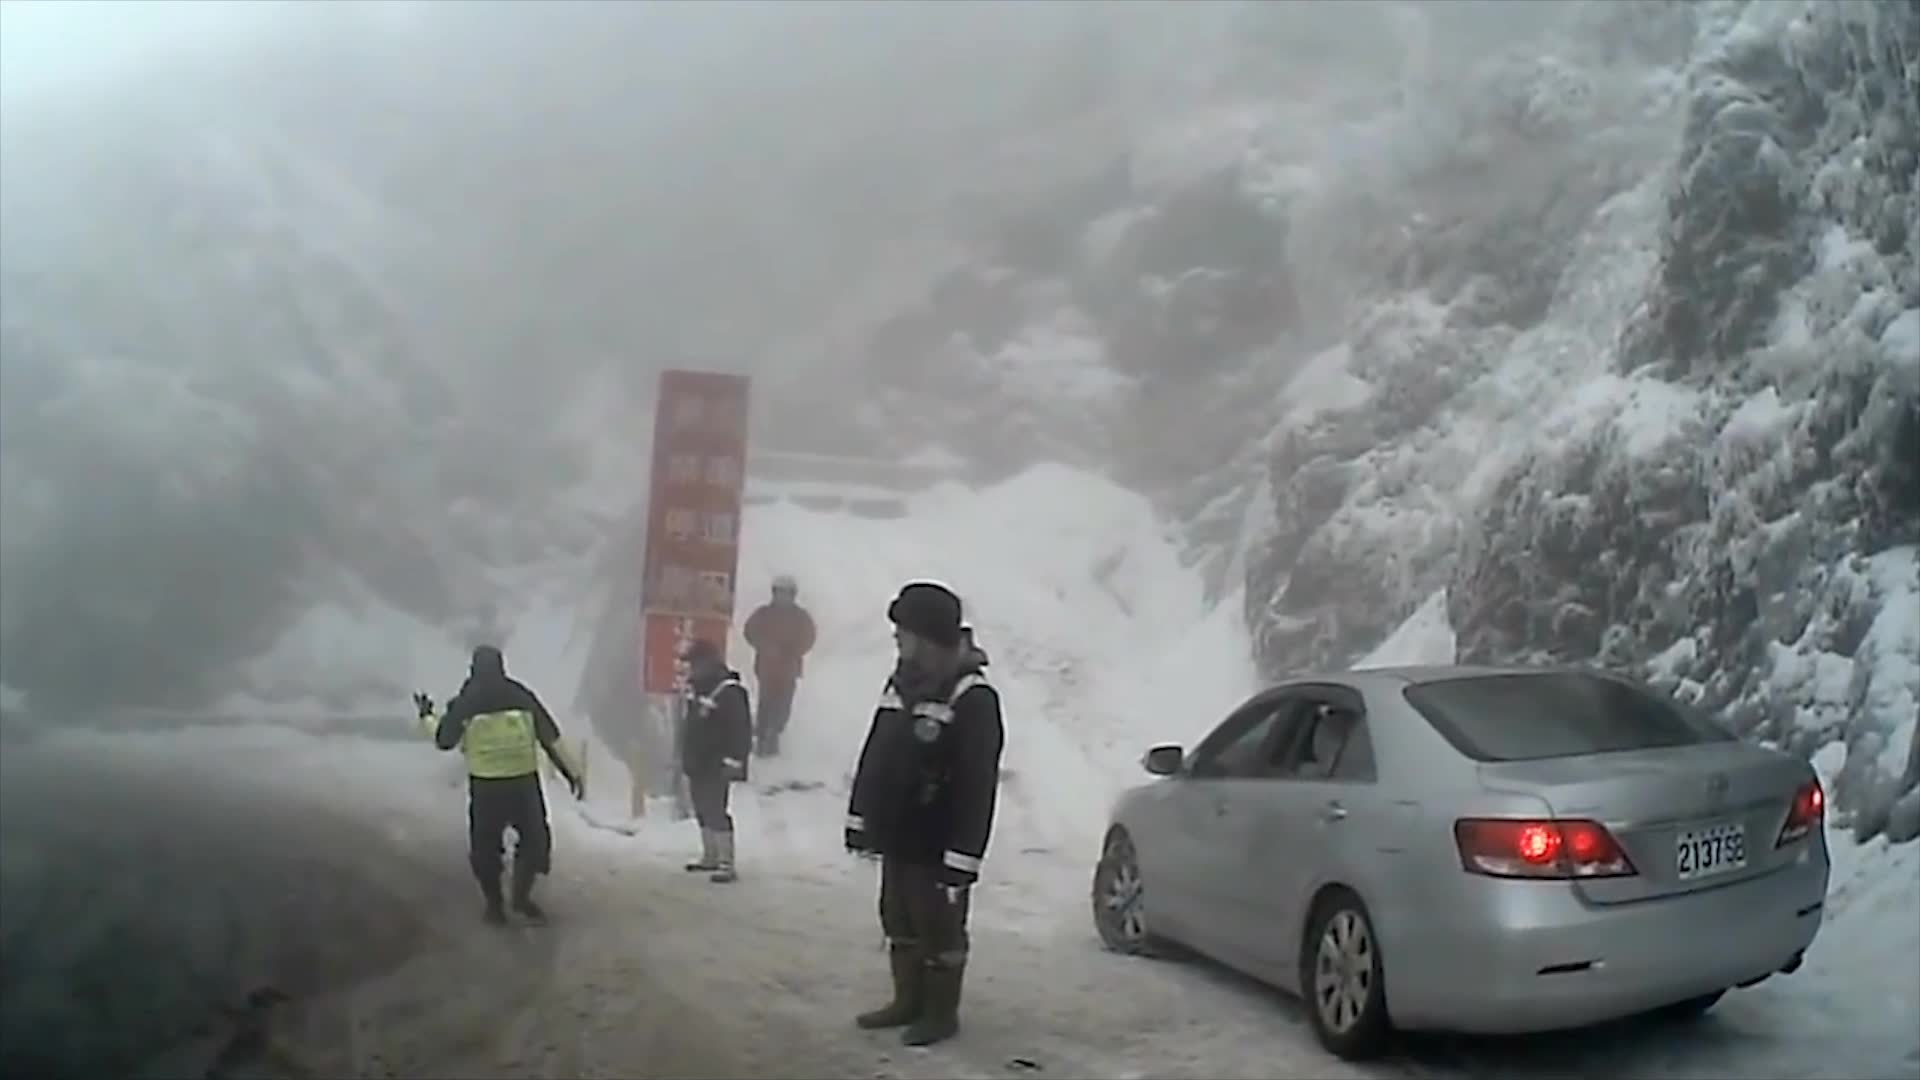pedestrian: (840, 583, 1012, 1048), (413, 647, 585, 929), (671, 641, 754, 885), (745, 577, 813, 759)
vehicle: (1090, 667, 1830, 1060)
